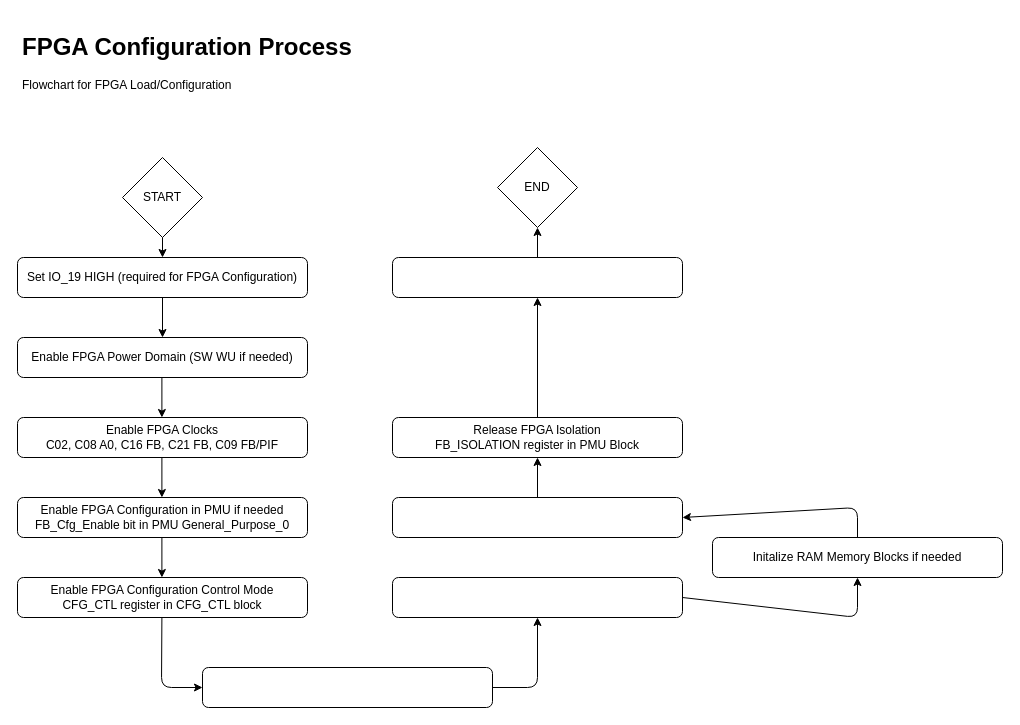
The diagram is 1020 pixels wide and 725 high, and some of its shapes have lost their labels. Here are the shapes that lost their labels. From the top down, the centre of each, then its label:
point (537, 277): Set IO_19 back to POR configuration
point (537, 517): Disable FPGA Configuration in PMU FB_Cfg_Enable bit in PMU General_Purpose_0
point (537, 597): Exit FPGA Configuration Control Mode CFG_CTL register in CFG_CTL block
point (347, 687): Write FPGA bitstream into CFG_CTL_CFG_DATA register one 32-bit word at a time
